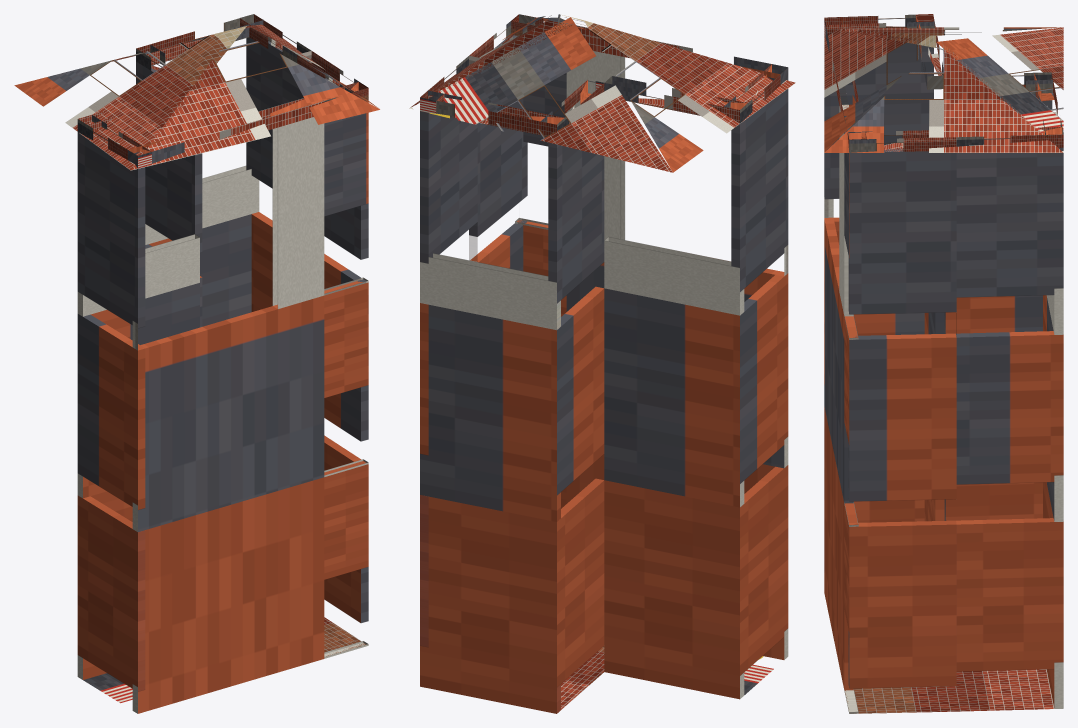
3 renders of one model, left to right at view 1: azimuth 30°, elevation 25°; view 2: azimuth 150°, elevation 25°; view 3: azimuth 270°, elevation 25°, orthographic. The views are drawn at different scales.
Visible parts, largest first — view 1: 534916389__wall_5_xb, 534916389__wall_4_xb, 534916389__wall_6_xb, 534916389_roof_left_xb, 534916389_roof_front_xb, 534916389__wall_1_xb, 534916389__wall_3_xb, 534916389__wall_7_xb, 534916389__wall_0_xb, 534916389__wall_2_xb, 534916389__cornice_5, 534916389__base (+4 smaller); view 2: 534916389__wall_3_xb, 534916389__wall_1_xb, 534916389__wall_4_xb, 534916389__wall_2_xb, 534916389_roof_back_xb, 534916389__wall_0_xb, 534916389_roof_left_xb, 534916389__wall_5_xb, 534916389__wall_7_xb, 534916389__wall_6_xb, 534916389__cornice_1, 534916389_roof_right_xb (+6 smaller); view 3: 534916389__wall_7_xb, 534916389__wall_0_xb, 534916389__wall_5_xb, 534916389__wall_4_xb, 534916389_roof_right_xb, 534916389__wall_2_xb, 534916389__base, 534916389_roof_back_xb, 534916389_roof_front_xb, 534916389__wall_6_xb, 534916389__wall_1_xb, 534916389__cornice_7 (+7 smaller).
Part boxes in pixels (bbox=[...]): 534916389__wall_5_xb: bbox=[132, 117, 324, 713]; 534916389__wall_4_xb: bbox=[77, 132, 145, 691]; 534916389__wall_6_xb: bbox=[324, 101, 368, 658]; 534916389_roof_left_xb: bbox=[14, 26, 246, 170]; 534916389_roof_front_xb: bbox=[131, 41, 379, 170]; 534916389__wall_1_xb: bbox=[145, 166, 259, 326]; 534916389__wall_3_xb: bbox=[77, 234, 199, 679]; 534916389__wall_7_xb: bbox=[312, 64, 368, 622]; 534916389__wall_0_xb: bbox=[246, 37, 303, 311]; 534916389__wall_2_xb: bbox=[136, 61, 202, 327]; 534916389__cornice_5: bbox=[128, 98, 324, 167]; 534916389__base: bbox=[83, 617, 365, 703]; 534916389__wall_3_xb: bbox=[604, 237, 744, 699]; 534916389__wall_1_xb: bbox=[420, 253, 560, 713]; 534916389__wall_4_xb: bbox=[731, 89, 788, 675]; 534916389__wall_2_xb: bbox=[548, 122, 604, 686]; 534916389_roof_back_xb: bbox=[409, 17, 672, 172]; 534916389__wall_0_xb: bbox=[420, 111, 477, 647]; 534916389_roof_left_xb: bbox=[562, 15, 795, 172]; 534916389__wall_5_xb: bbox=[566, 51, 788, 659]; 534916389__wall_7_xb: bbox=[469, 35, 527, 270]; 534916389__wall_6_xb: bbox=[515, 73, 566, 508]; 534916389__cornice_1: bbox=[428, 90, 564, 136]; 534916389_roof_right_xb: bbox=[410, 14, 573, 107]; 534916389__wall_7_xb: bbox=[848, 148, 956, 688]; 534916389__wall_0_xb: bbox=[956, 147, 1063, 671]; 534916389__wall_5_xb: bbox=[824, 104, 853, 690]; 534916389__wall_4_xb: bbox=[824, 42, 933, 572]; 534916389_roof_right_xb: bbox=[824, 44, 1063, 152]; 534916389__wall_2_xb: bbox=[944, 93, 1052, 520]; 534916389__base: bbox=[845, 669, 1054, 713]; 534916389_roof_back_xb: bbox=[936, 27, 1063, 152]; 534916389_roof_front_xb: bbox=[824, 29, 918, 152]; 534916389__wall_6_xb: bbox=[844, 129, 858, 713]; 534916389__wall_1_xb: bbox=[1043, 288, 1063, 708]; 534916389__cornice_7: bbox=[848, 130, 956, 152].
Size of the model in its own units: 0.5041 by 1.17 by 0.4065.
Materials: 1 (1 with a texture image).
